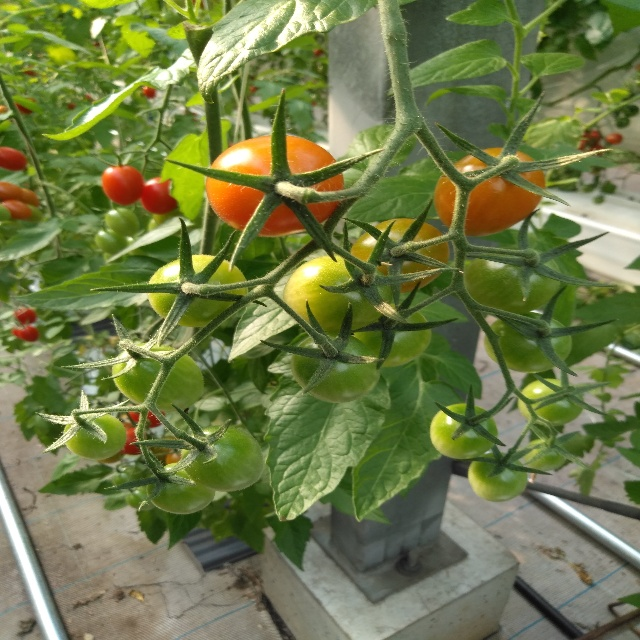l_fully_ripened: (101, 164, 145, 205), (140, 177, 179, 214)
l_green: (282, 254, 395, 331), (146, 254, 249, 328), (462, 247, 562, 317), (290, 330, 381, 403), (111, 341, 204, 412), (341, 302, 433, 367), (180, 425, 266, 492), (483, 312, 572, 373), (429, 403, 498, 461), (146, 461, 215, 514), (517, 378, 585, 427), (467, 451, 528, 503), (63, 413, 129, 460), (523, 438, 566, 473), (105, 206, 140, 237)
l_half_ripened: (205, 135, 347, 236), (433, 147, 544, 238), (348, 217, 449, 295)
